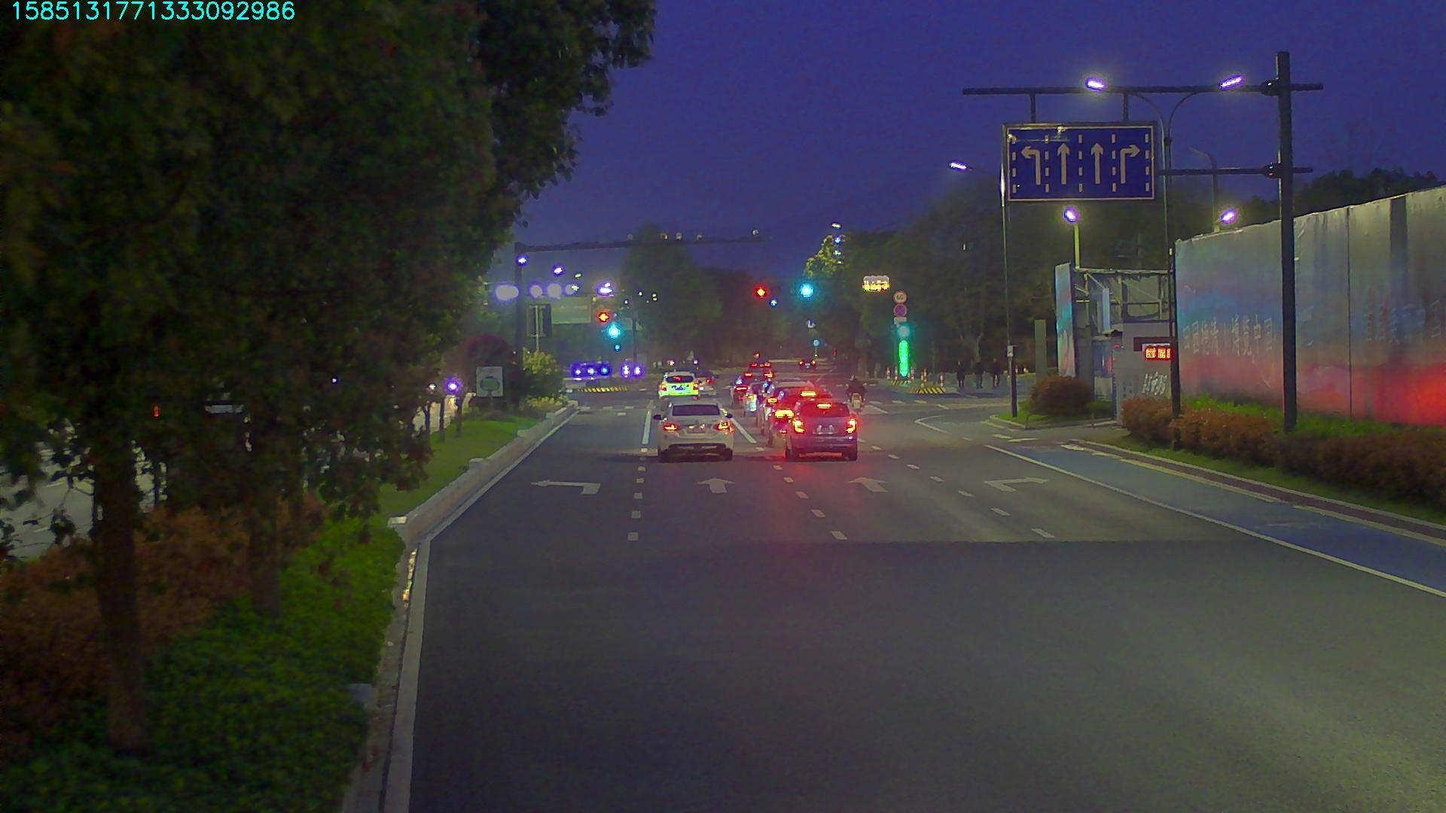green: (799, 284, 810, 299)
red: (753, 280, 767, 297)
